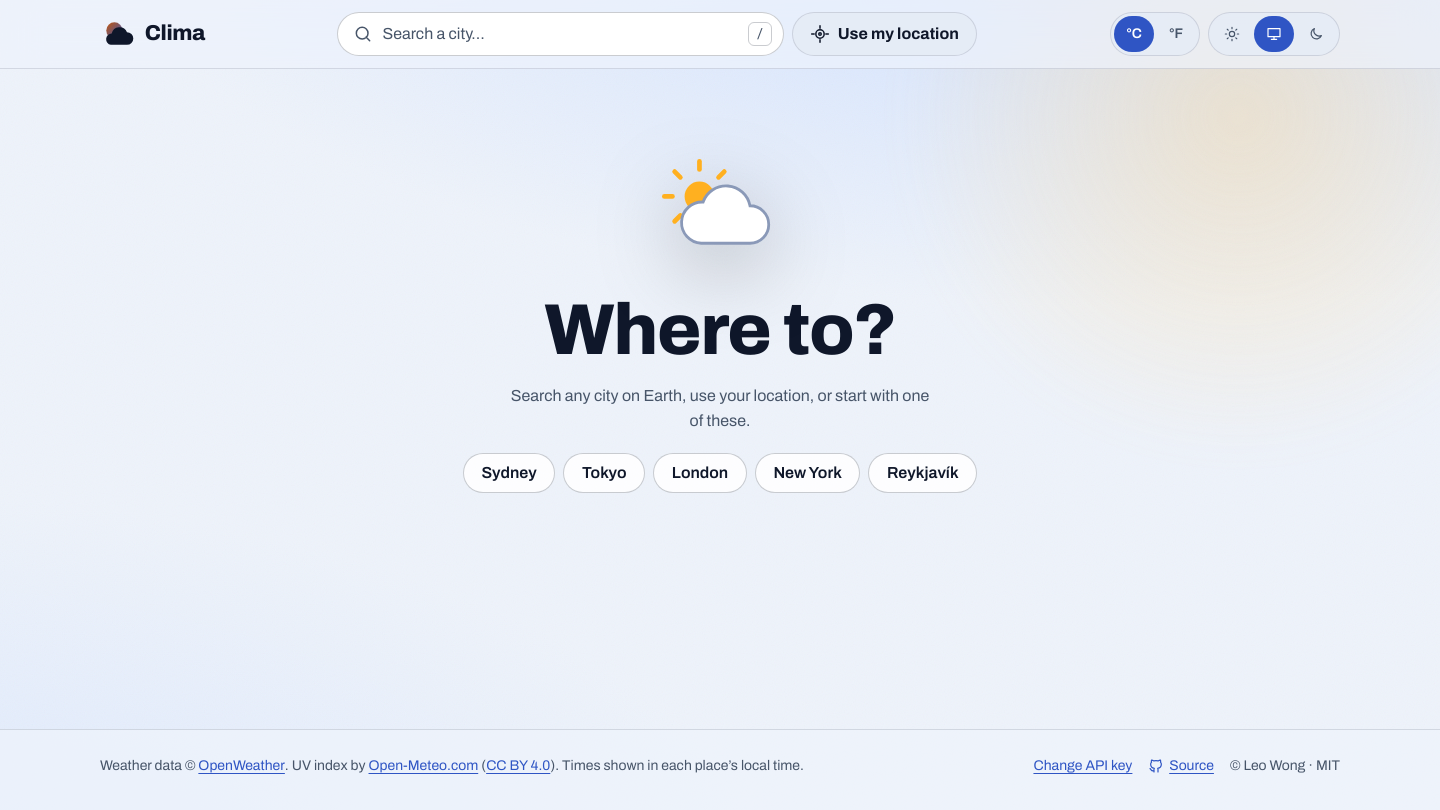
Test: App › searches with a keyboard-operable combobox and announces results
This screenshot has width=1440, height=810.
Type "Syd" into the dropdown named "search for a city".
click(561, 34); type("Syd")  # box left=337, top=12, right=784, bottom=56
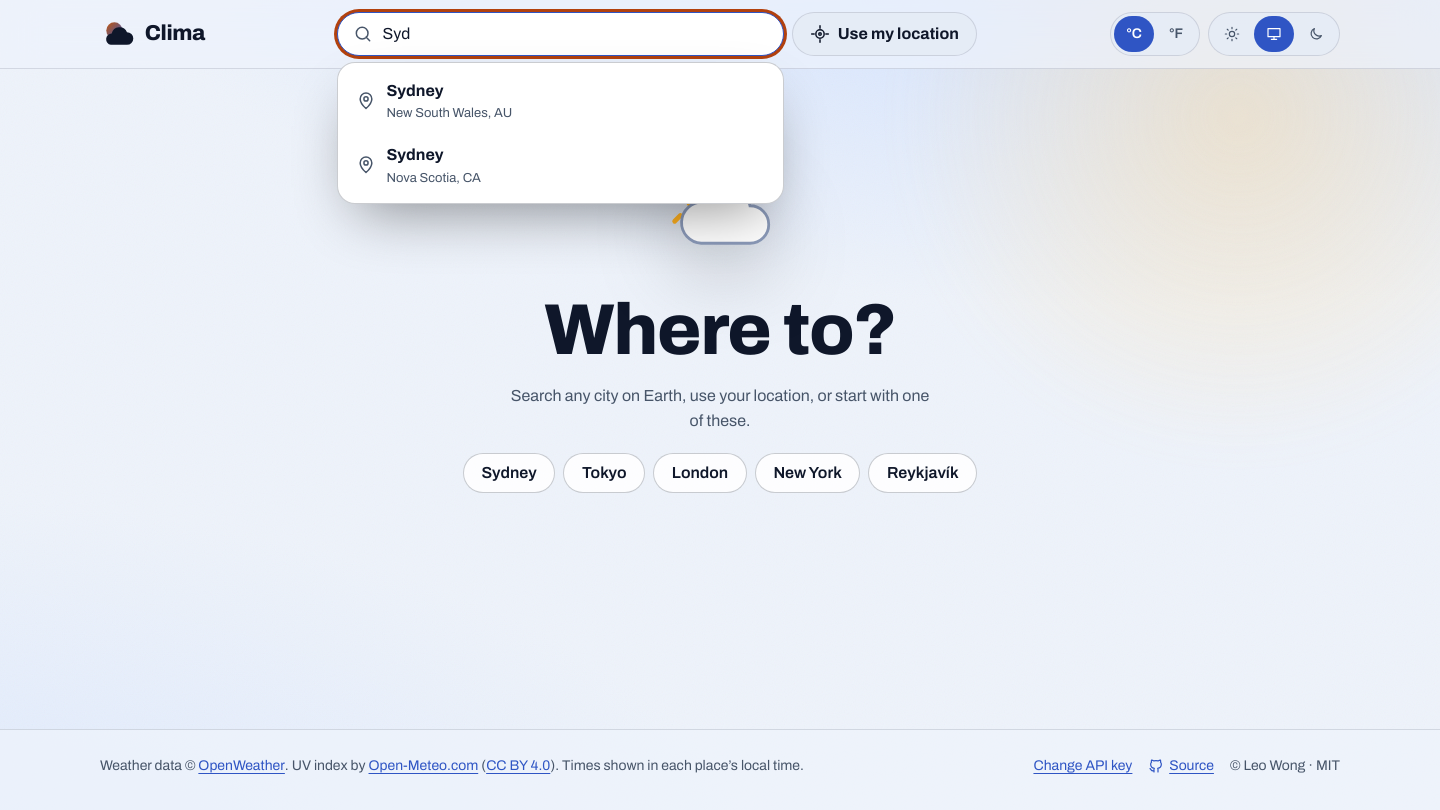
Expected: the dropdown named "search for a city" is expanded, left=337, top=12, right=784, bottom=56
Expected: the number of options is 2, left=356, top=82, right=512, bottom=120; left=356, top=146, right=481, bottom=184
Press Arrowdown Arrowdown
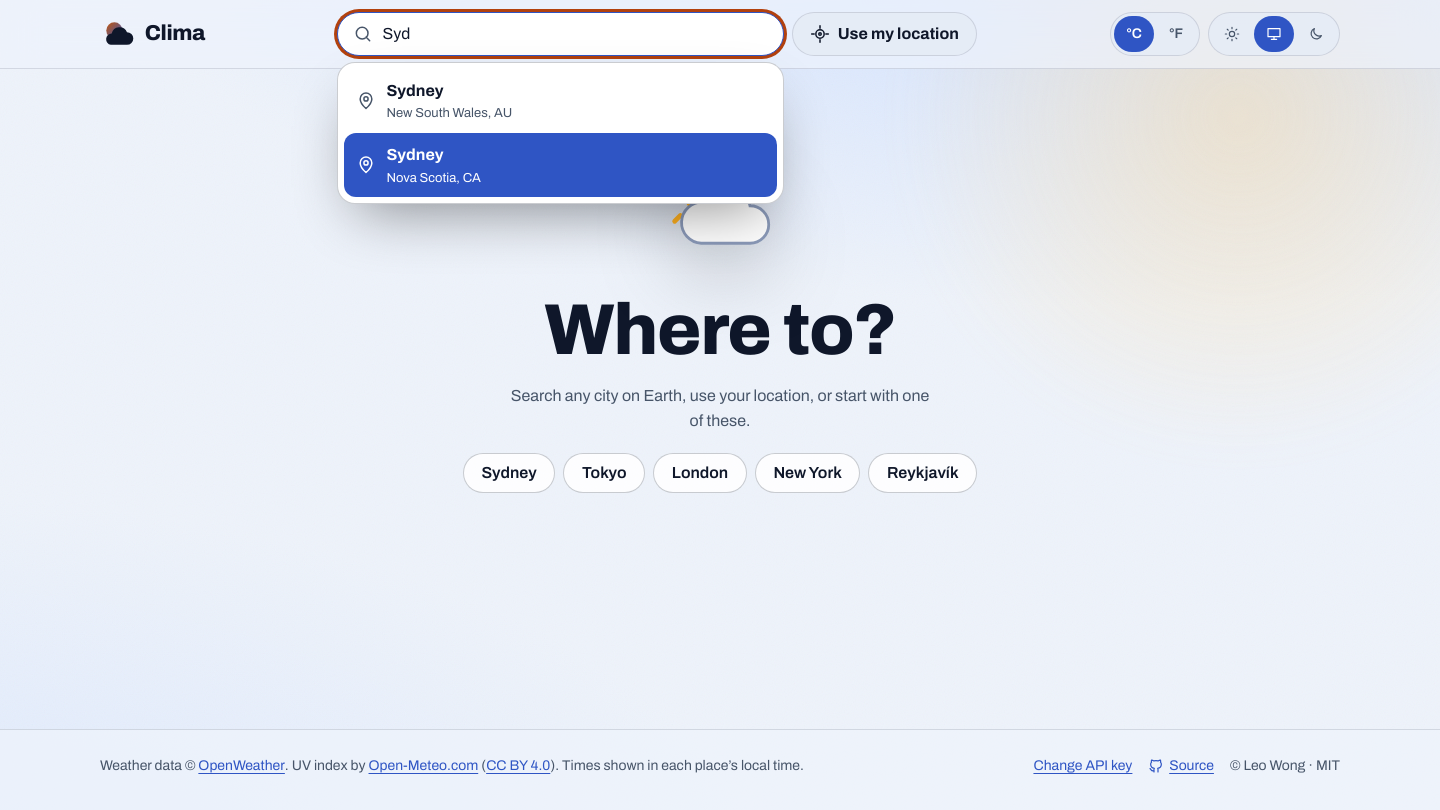
Expected: the option "Sydney Nova Scotia, CA" is selected, left=344, top=133, right=777, bottom=197
Press Arrowup Enter
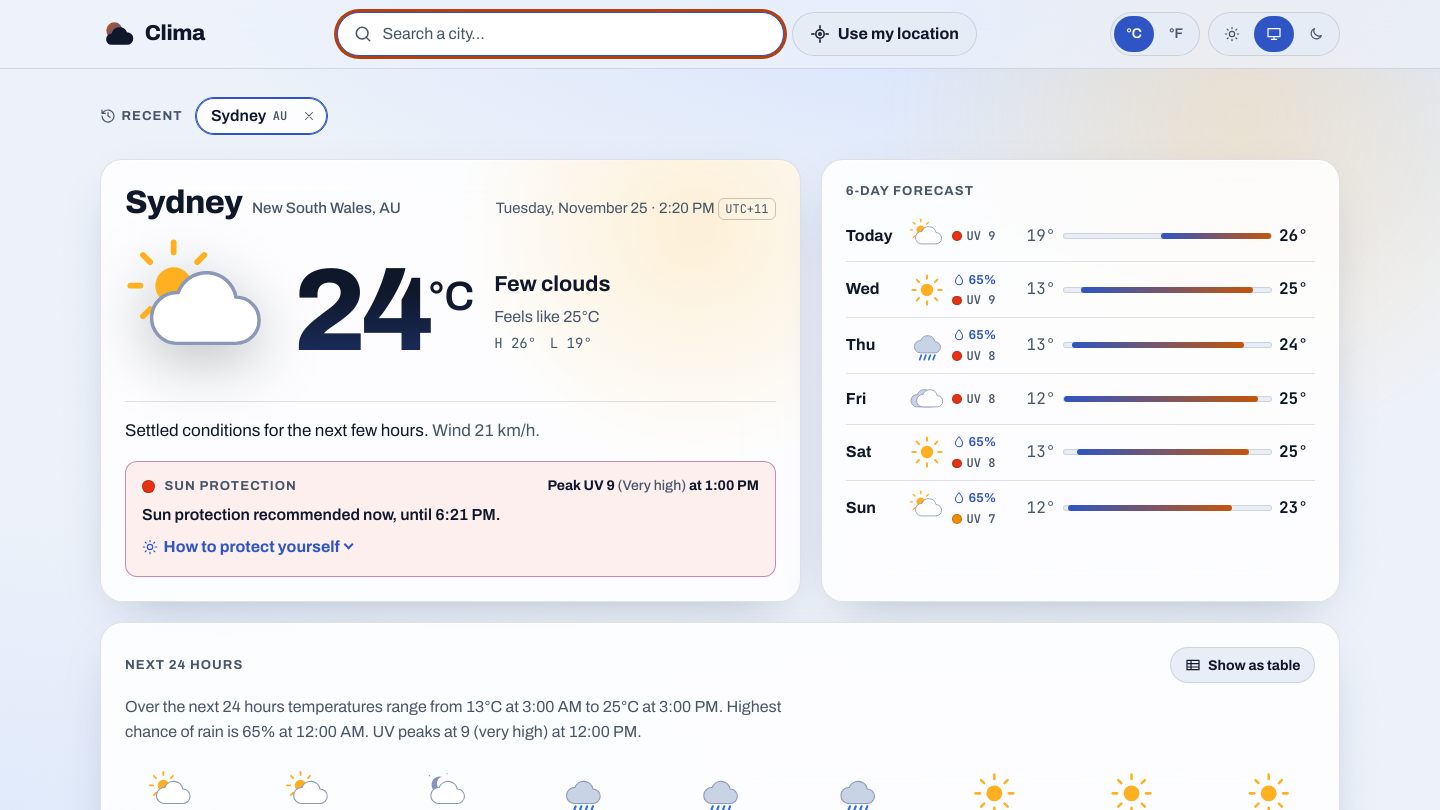
Expected: the heading "Sydney New South Wales, AU" is shown, left=125, top=184, right=401, bottom=221
Expected: the dropdown named "search for a city" is empty, left=337, top=12, right=784, bottom=56
